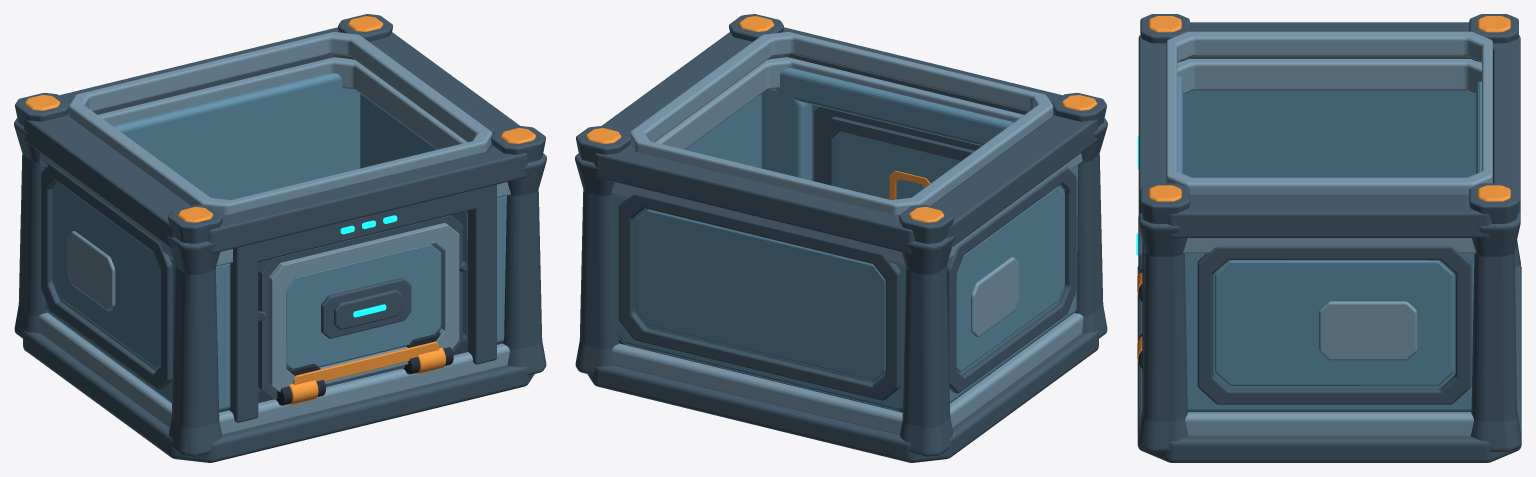
Rendered from SM_Warehouse.fbx.
3 renders of one model, left to right at view 1: azimuth 30°, elevation 25°; view 2: azimuth 150°, elevation 25°; view 3: azimuth 270°, elevation 25°, orthographic. The views are drawn at different scales.
Parts seen in each view (by area): view 1: SM_Warehouse_Body, SM_Warehouse_Door; view 2: SM_Warehouse_Body, SM_Warehouse_Door; view 3: SM_Warehouse_Body, SM_Warehouse_Door.
Part boxes in pixels (x1,y1,x2,y2): SM_Warehouse_Body: (14,14,546,462); SM_Warehouse_Door: (258,215,462,405); SM_Warehouse_Body: (575,14,1107,462); SM_Warehouse_Door: (814,106,981,199); SM_Warehouse_Body: (1137,14,1521,462); SM_Warehouse_Door: (1136,217,1142,368).
Size of the model in its own units: 321 by 380 by 240.
